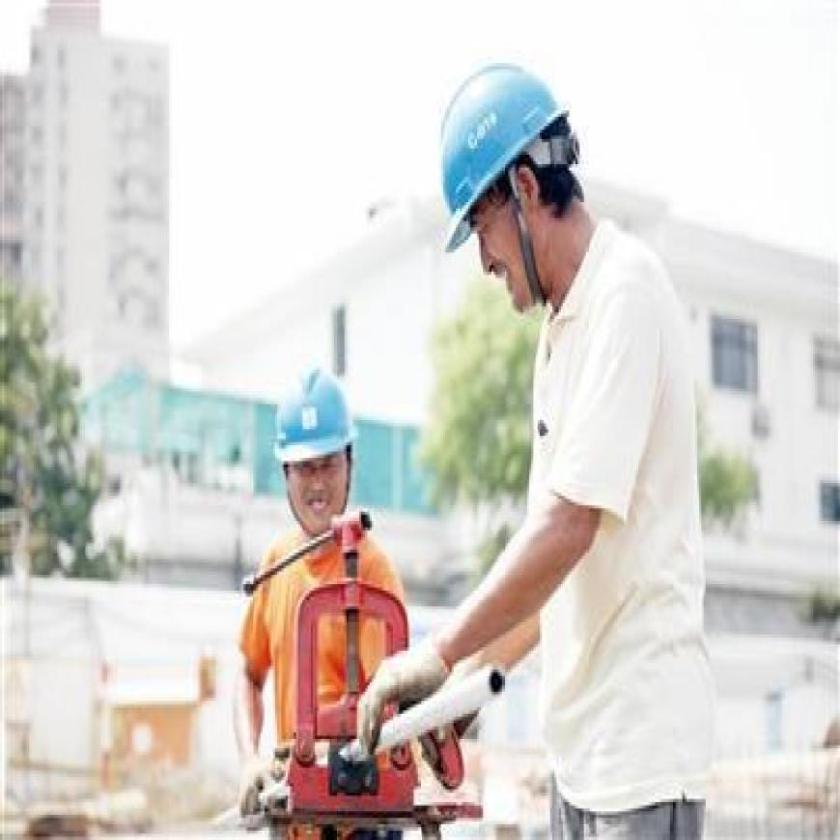Con_casco: (438, 67, 598, 327), (272, 360, 358, 531)
